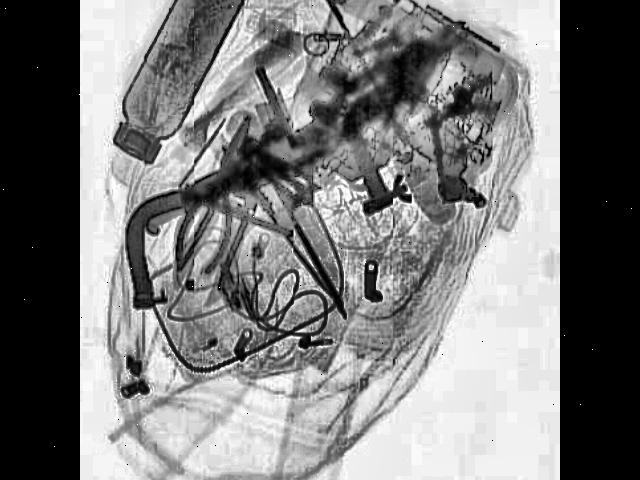Pliers: (168, 98, 270, 296)
